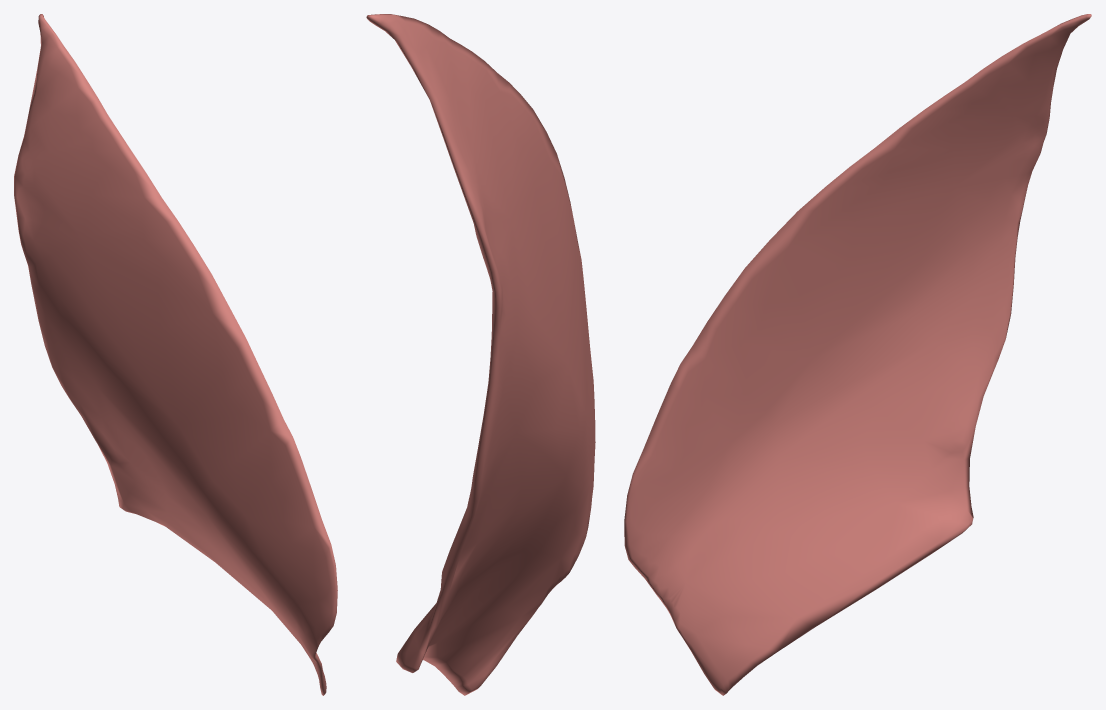
3 views of the same model, side by side, from view 1: azimuth 30°, elevation 25°; view 2: azimuth 150°, elevation 25°; view 3: azimuth 270°, elevation 25° (orthographic). The views are drawn at different scales.
Parts seen in each view (by area): view 1: ZA_db6d0212aad8b933; view 2: ZA_db6d0212aad8b933; view 3: ZA_db6d0212aad8b933.
Part boxes in pixels (x1,y1,x2,y2): ZA_db6d0212aad8b933: (14, 14, 337, 695); ZA_db6d0212aad8b933: (366, 14, 595, 695); ZA_db6d0212aad8b933: (624, 14, 1091, 695).
Size of the model in its own units: 0.0147 by 0.0489 by 0.0333.
